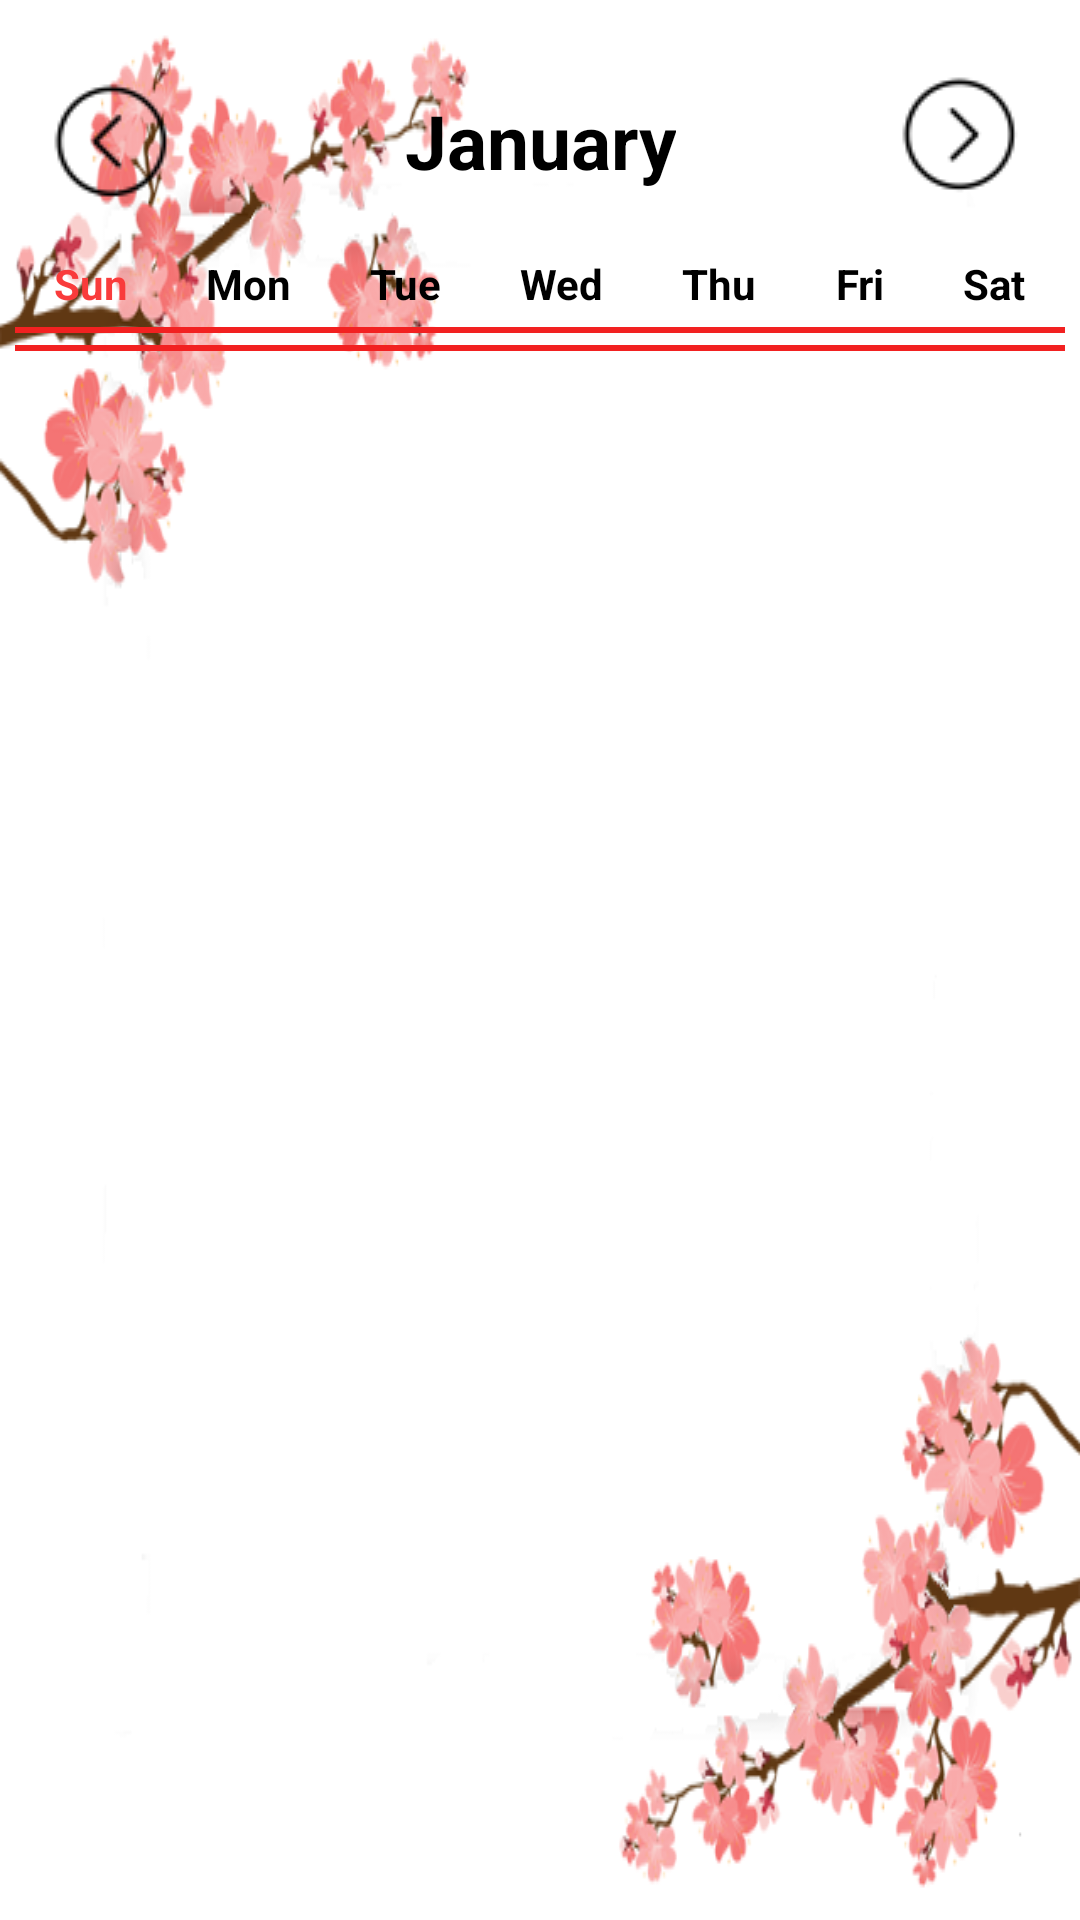

Where to tap for icons on this 1080px×1920px app screen, as point (x, y):
back: point (113, 142)
next: point (958, 133)
